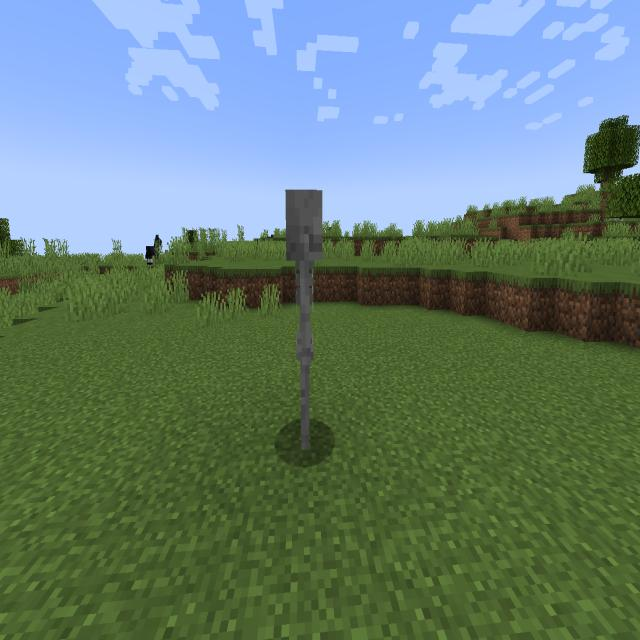Skeleton: (278, 176, 336, 478)
